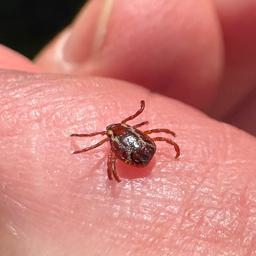Dermacentor variabilis: (69, 101, 180, 183)
